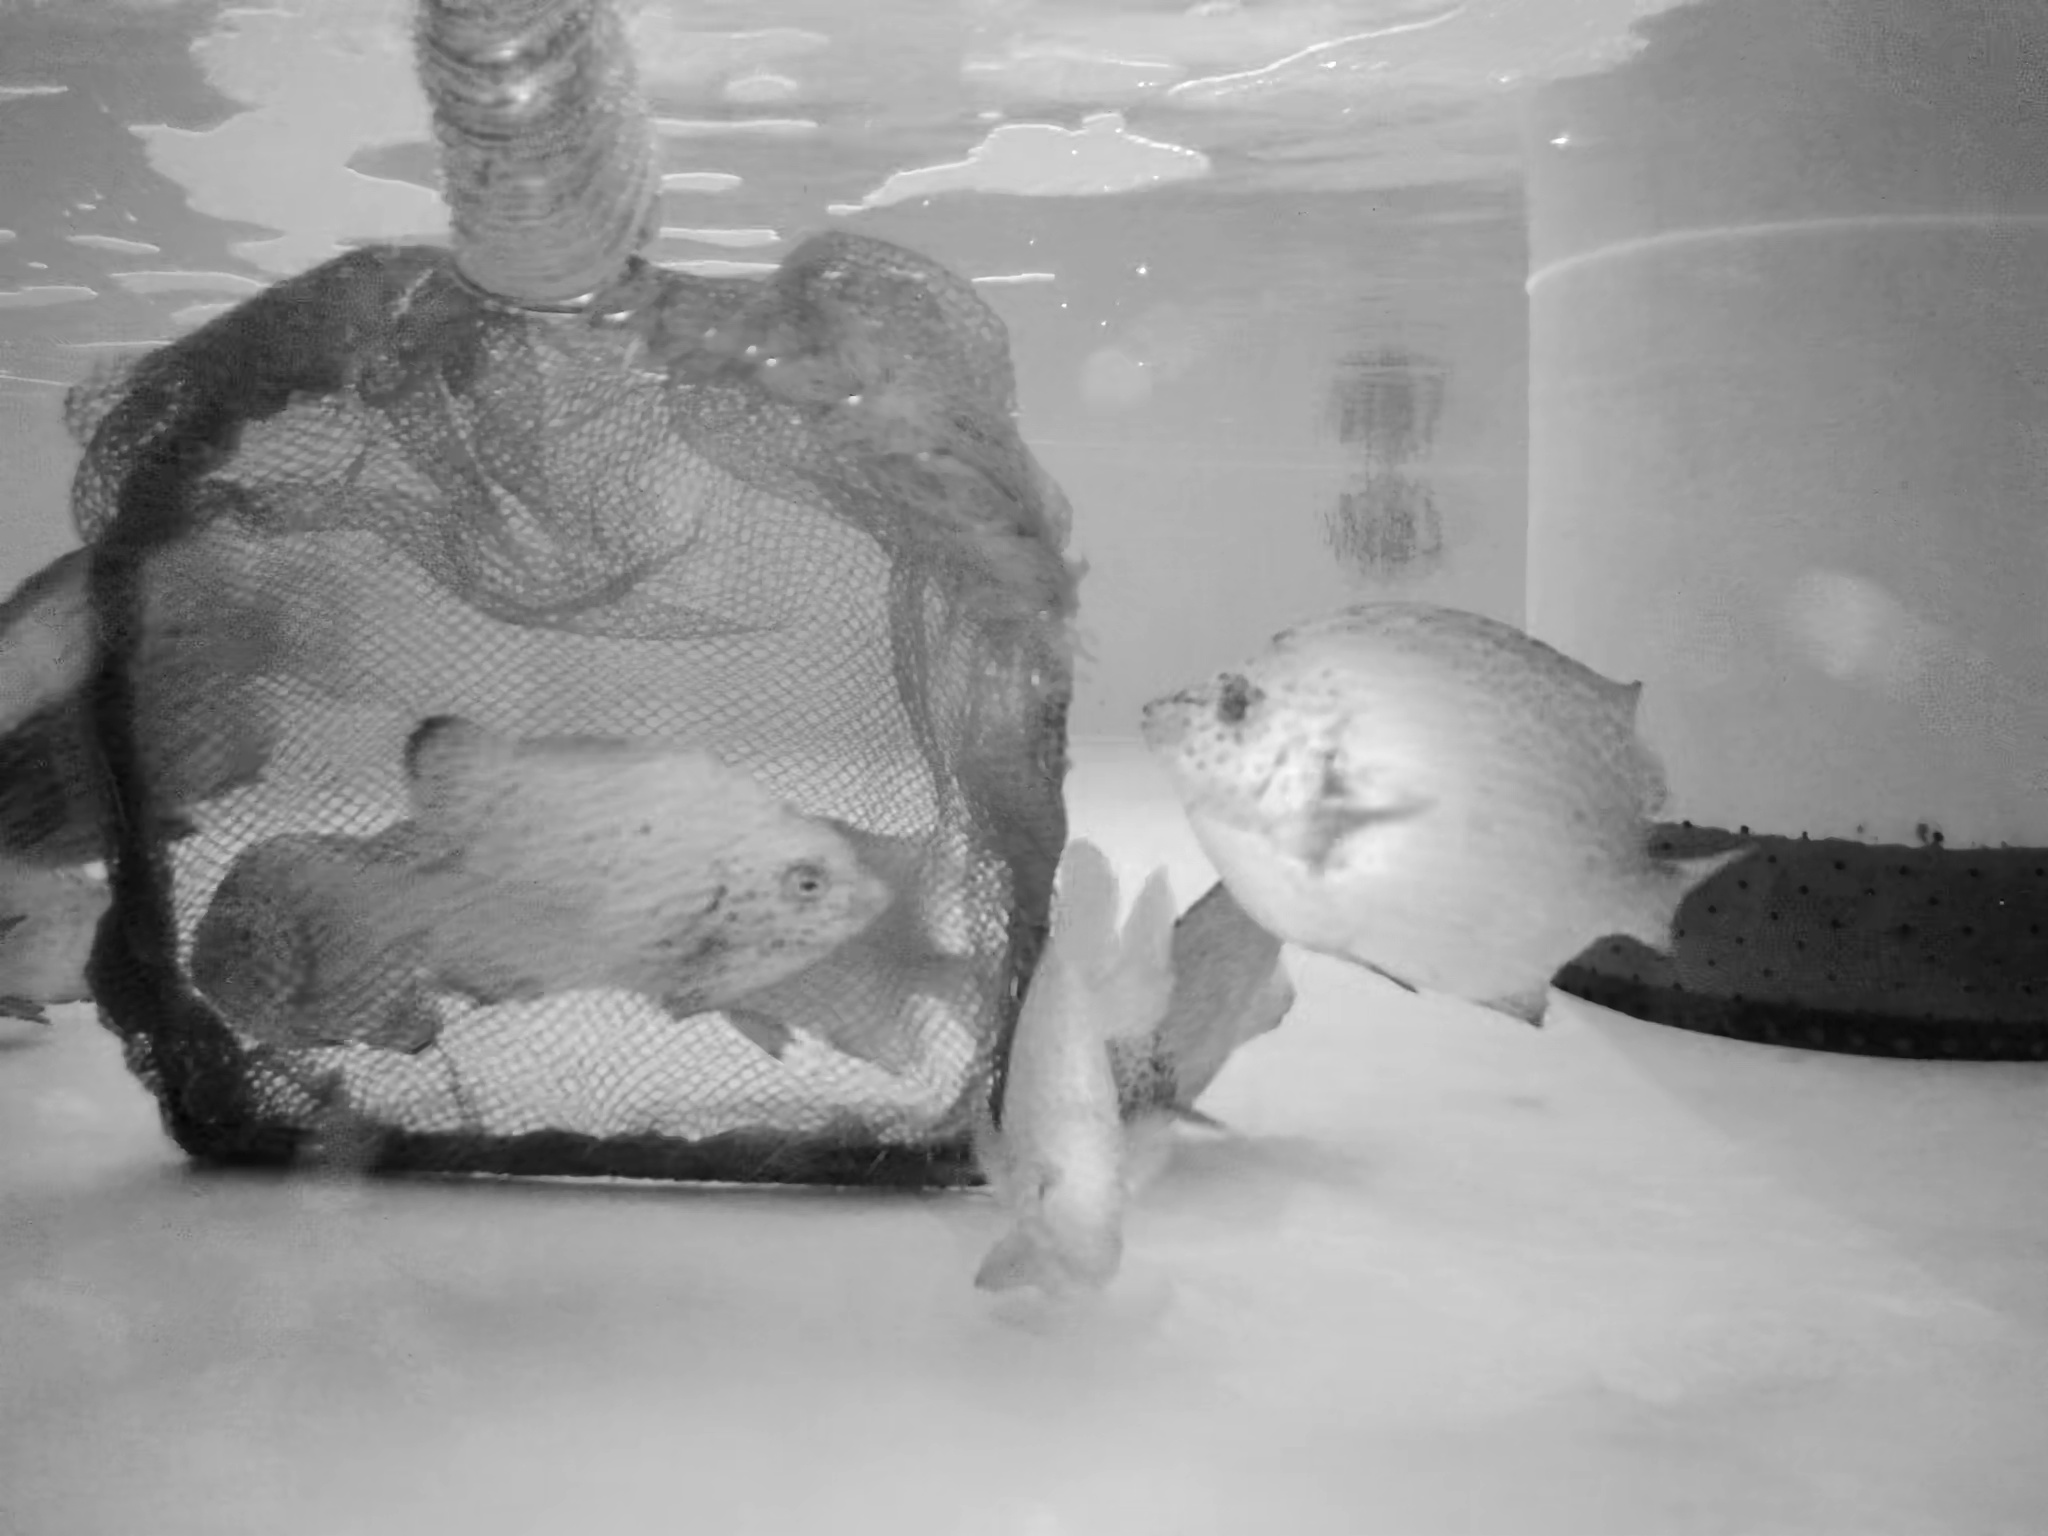fish: (1134, 602, 1738, 1049), (318, 716, 890, 1041), (2, 532, 443, 862), (684, 800, 980, 1102), (987, 833, 1174, 1302), (1106, 850, 1297, 1189), (202, 828, 469, 1065), (2, 854, 179, 1036)
